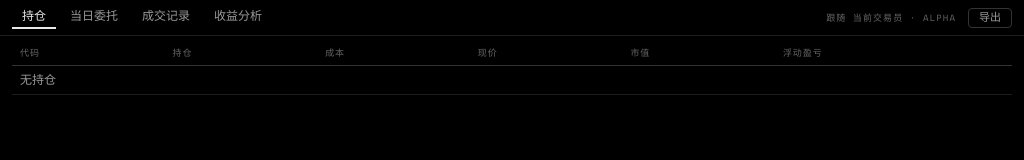
Test: 底部 Dock（01 §4.8） › 委托表：partial 列与 PARTIAL 胶囊
Click the tab "当日委托" at (94, 18), box left=60, top=6, right=128, bottom=29
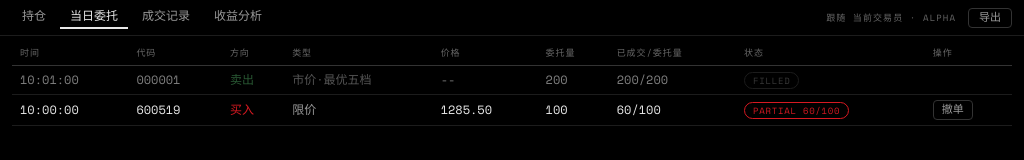
Check: the table with test id "dock-orders" is shown, box left=12, top=40, right=1012, bottom=126
Check: the text "60/100" is shown, box left=609, top=94, right=736, bottom=125
Check: the text "PARTIAL 60/100" is shown, box left=744, top=102, right=849, bottom=119
